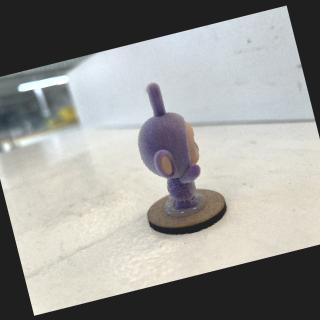teletubby: (138, 82, 200, 209)
